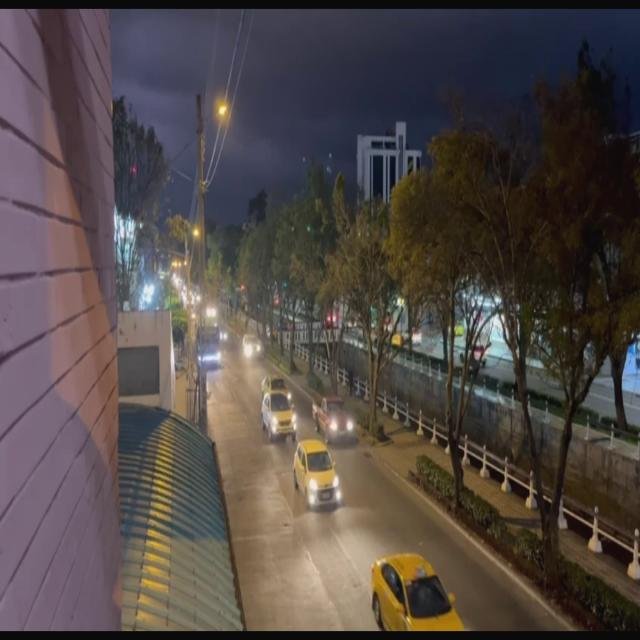CMT: (314, 397, 352, 443)
